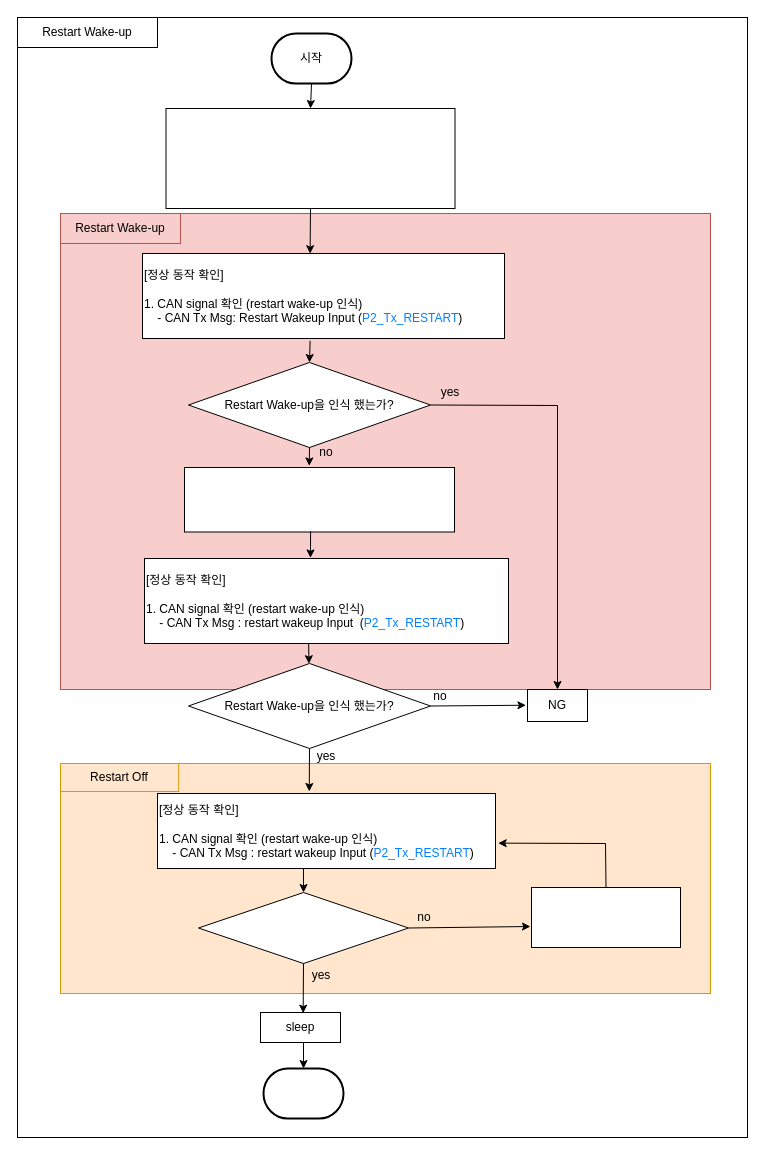
Image size: 765x1155. Some labels were removed from this diagram. Each missing label, with the box of its shape:
[검사 조건 설정] 1. RESTART 8v 이상을 90ms 인가: (184, 466, 454, 532)
[검사 조건 설정] 1. 전압 인가 - B+BATT, LATCH SEN, B+LDC = 13.8V 2. RESTART 8v 이상을 19ms 인가: (165, 108, 455, 208)
[검사 조건 설정] 1.RESTART 전압 설정 - RESTART == 0V: (530, 886, 680, 948)
Restart Off 되었는가?: (198, 892, 408, 964)
종료: (262, 1067, 344, 1119)
